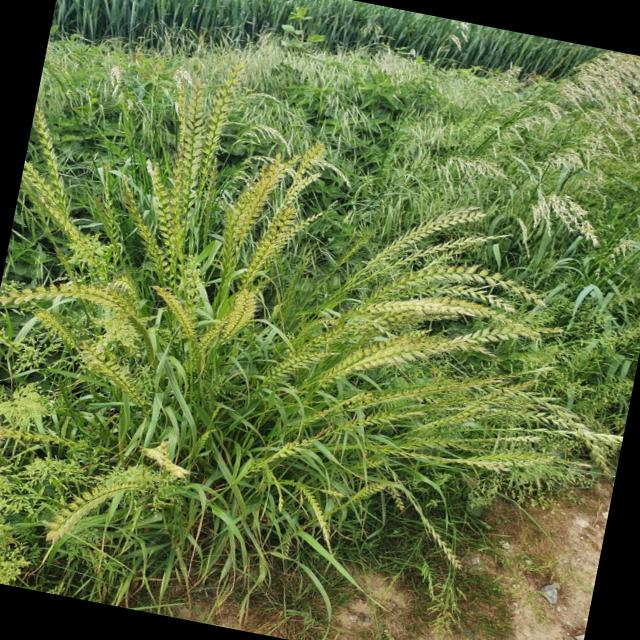Lolium: (0, 28, 640, 640), (328, 296, 524, 412), (360, 278, 555, 346), (6, 160, 120, 274), (362, 193, 486, 291), (42, 462, 154, 560), (322, 310, 431, 400), (217, 146, 284, 290), (360, 432, 530, 488), (394, 251, 544, 314), (0, 270, 150, 329), (160, 75, 218, 218), (16, 106, 88, 218), (106, 174, 181, 278), (194, 58, 242, 205), (324, 392, 422, 453), (70, 342, 154, 410), (238, 200, 295, 296), (495, 412, 611, 450), (0, 422, 107, 463), (138, 284, 206, 346), (282, 135, 331, 212), (216, 284, 268, 352), (288, 486, 340, 546), (412, 514, 468, 569), (268, 339, 328, 383), (276, 207, 320, 256), (352, 475, 392, 507)
